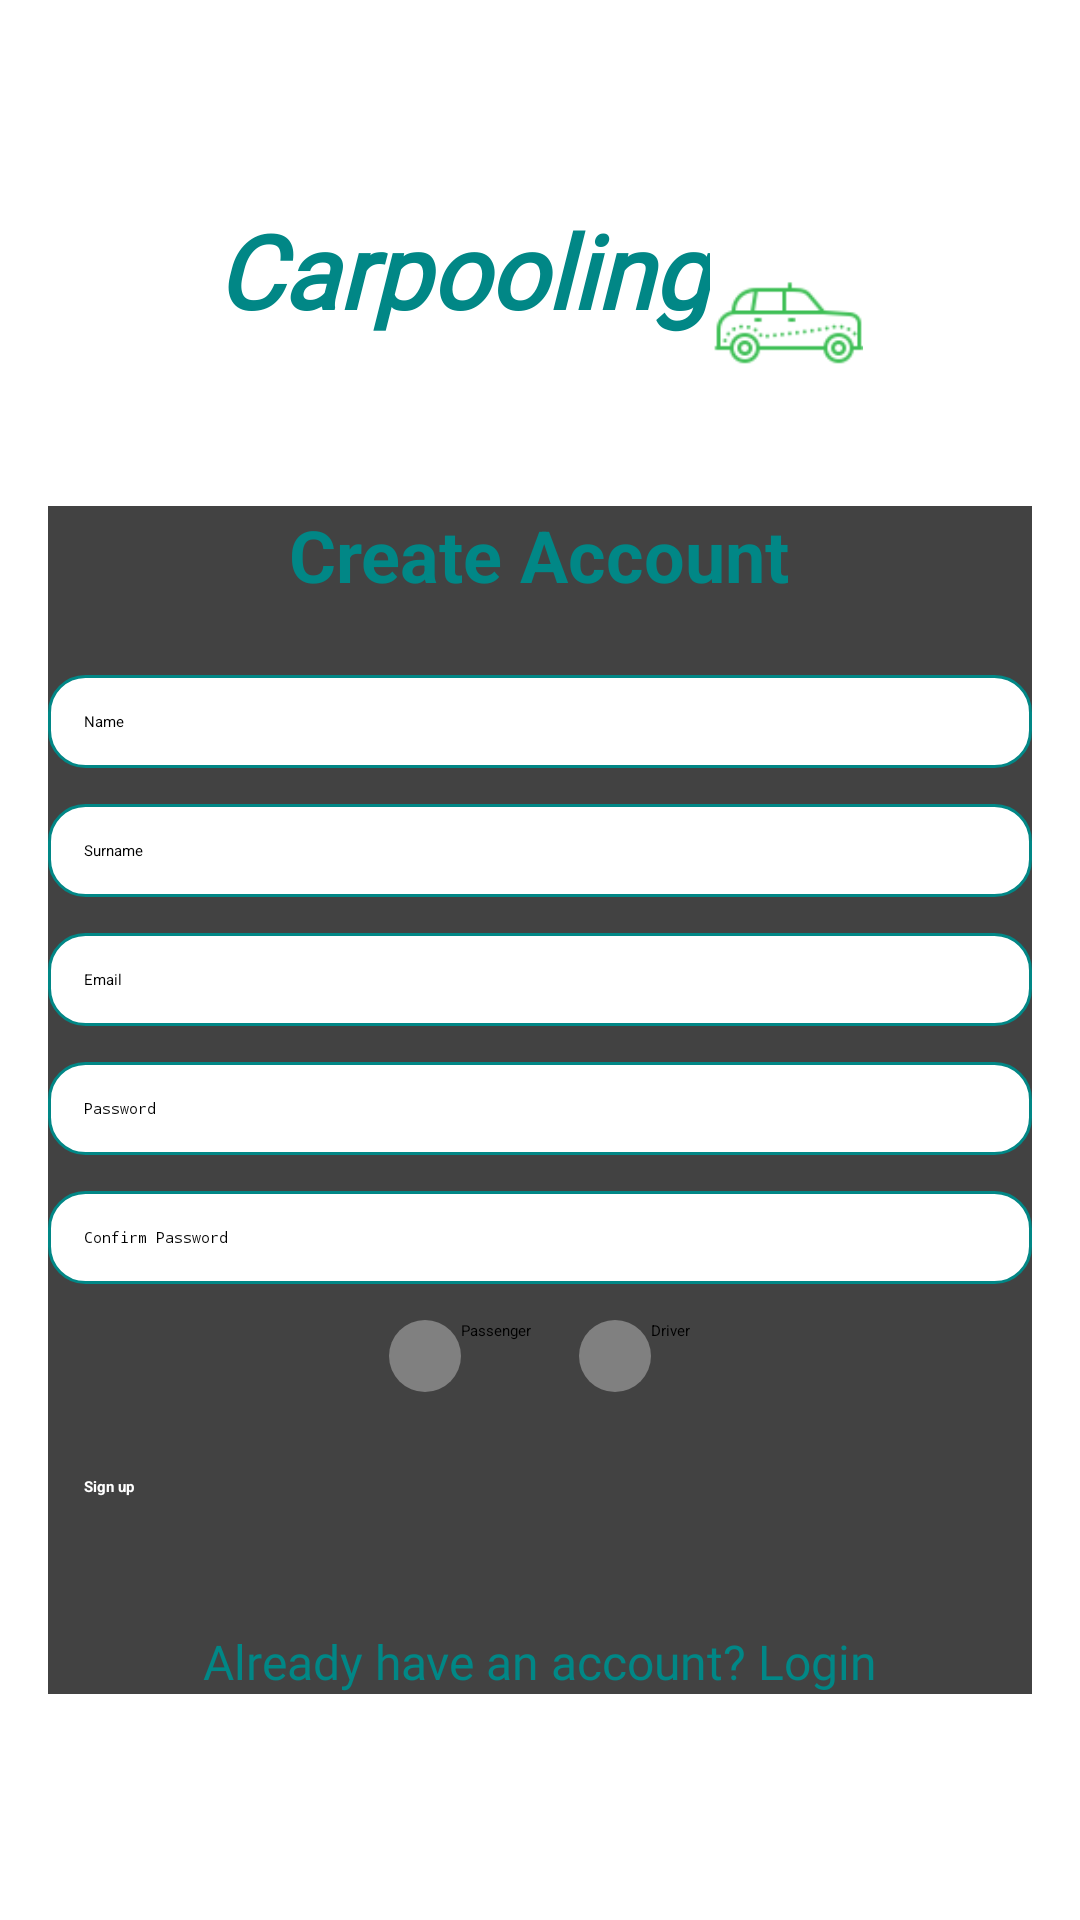

Icon bounding boxes for this 1080px x 1920px phone screenshot, format [x1,y1,x2,y2]:
Car Icon: [714,282,863,364]
